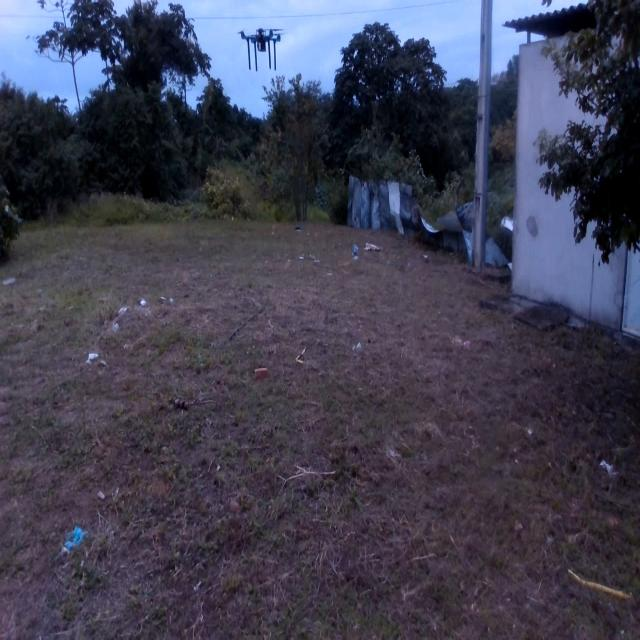-uav-: (236, 15, 288, 77)
